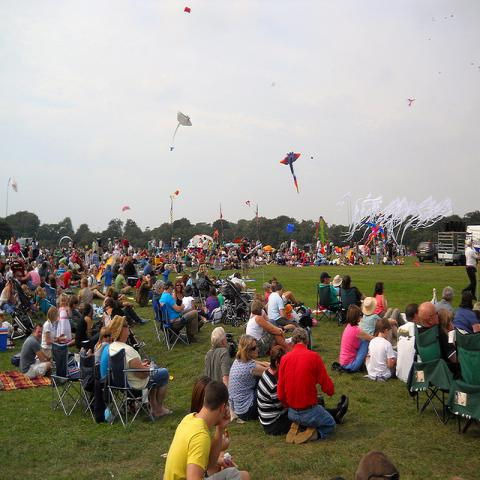bus: (466, 225, 479, 254)
car: (416, 242, 438, 263)
truck: (437, 224, 479, 267), (414, 242, 438, 263)
